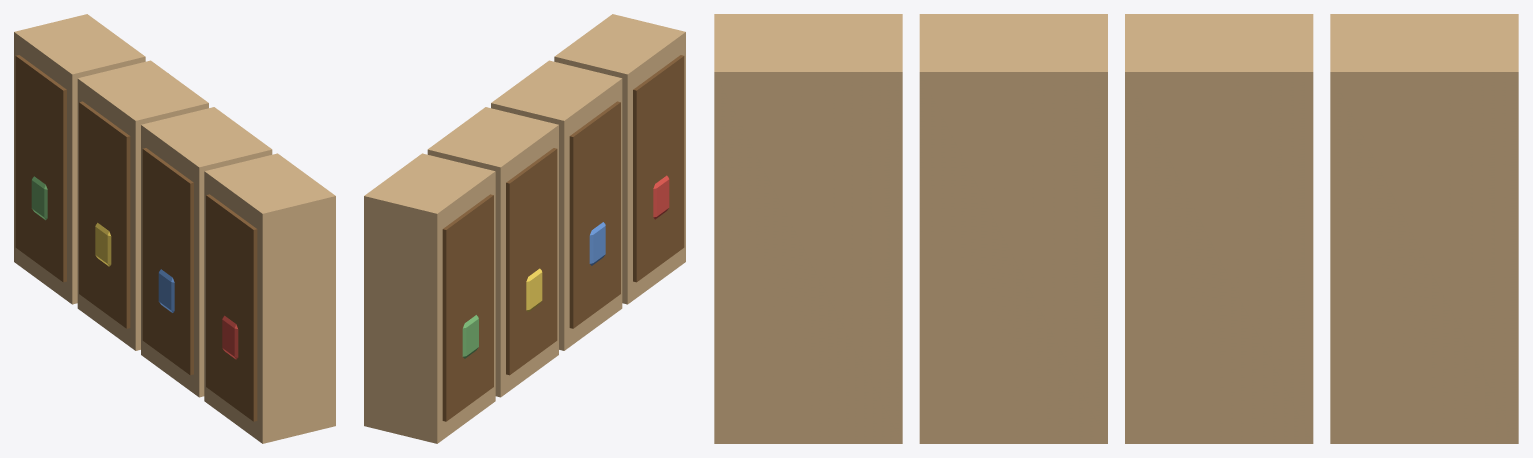
The model's file is classroom_cubbies.glb.
3 views of the same model, side by side, from view 1: azimuth 30°, elevation 25°; view 2: azimuth 150°, elevation 25°; view 3: azimuth 270°, elevation 25° (orthographic). The views are drawn at different scales.
Visible parts, largest first — view 1: classroom_cubbies; view 2: classroom_cubbies; view 3: classroom_cubbies.
Boxes of the visible parts, x1,y1,x2,y2 form: classroom_cubbies: (14, 14, 335, 443); classroom_cubbies: (364, 14, 685, 443); classroom_cubbies: (714, 14, 1518, 443).
Size of the model in its own units: 0.4309 by 1.2 by 2.35.
